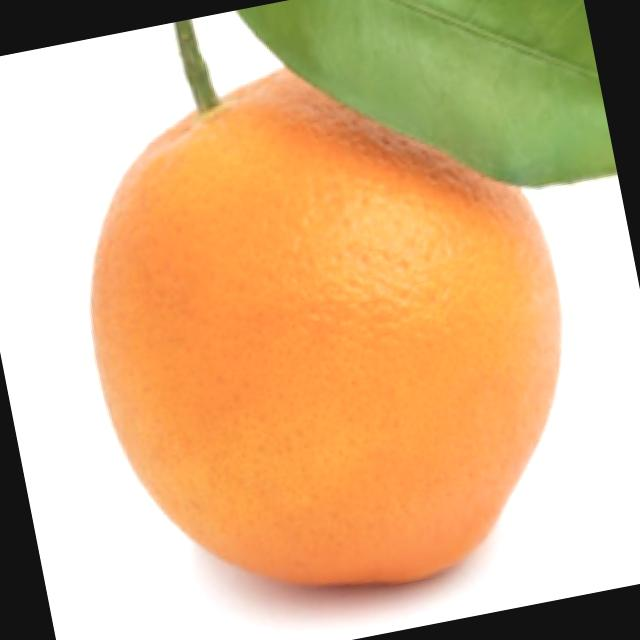orange: (32, 0, 633, 640)
